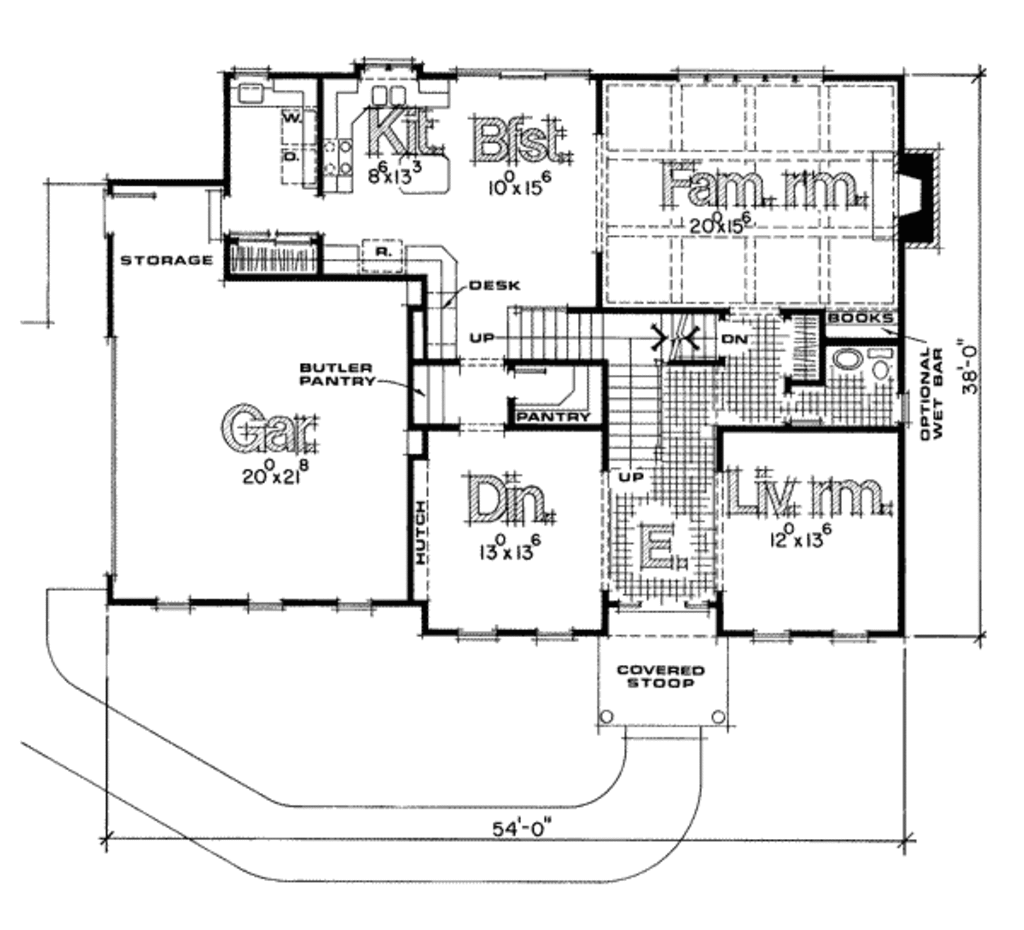stairs: (507, 310, 724, 480)
twin_sink: (364, 81, 413, 108)
window: (446, 59, 595, 85), (672, 68, 830, 92), (353, 53, 422, 80), (146, 591, 200, 614), (455, 621, 504, 645), (530, 623, 580, 646), (236, 598, 294, 616), (333, 594, 376, 618), (898, 389, 918, 434), (825, 627, 876, 644), (754, 628, 793, 646), (228, 68, 273, 82)
